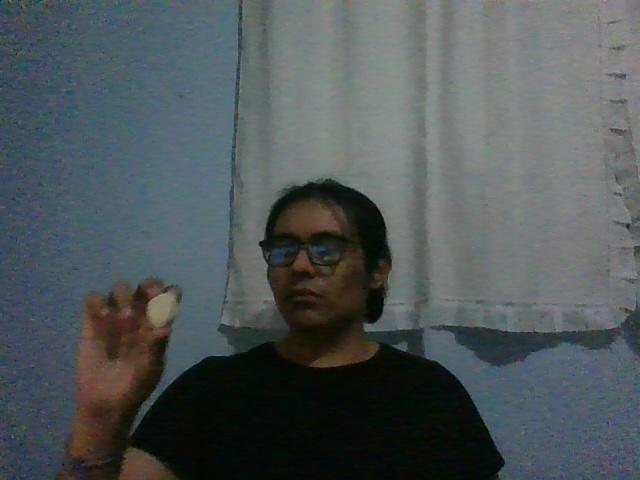goma: (145, 294, 179, 328)
